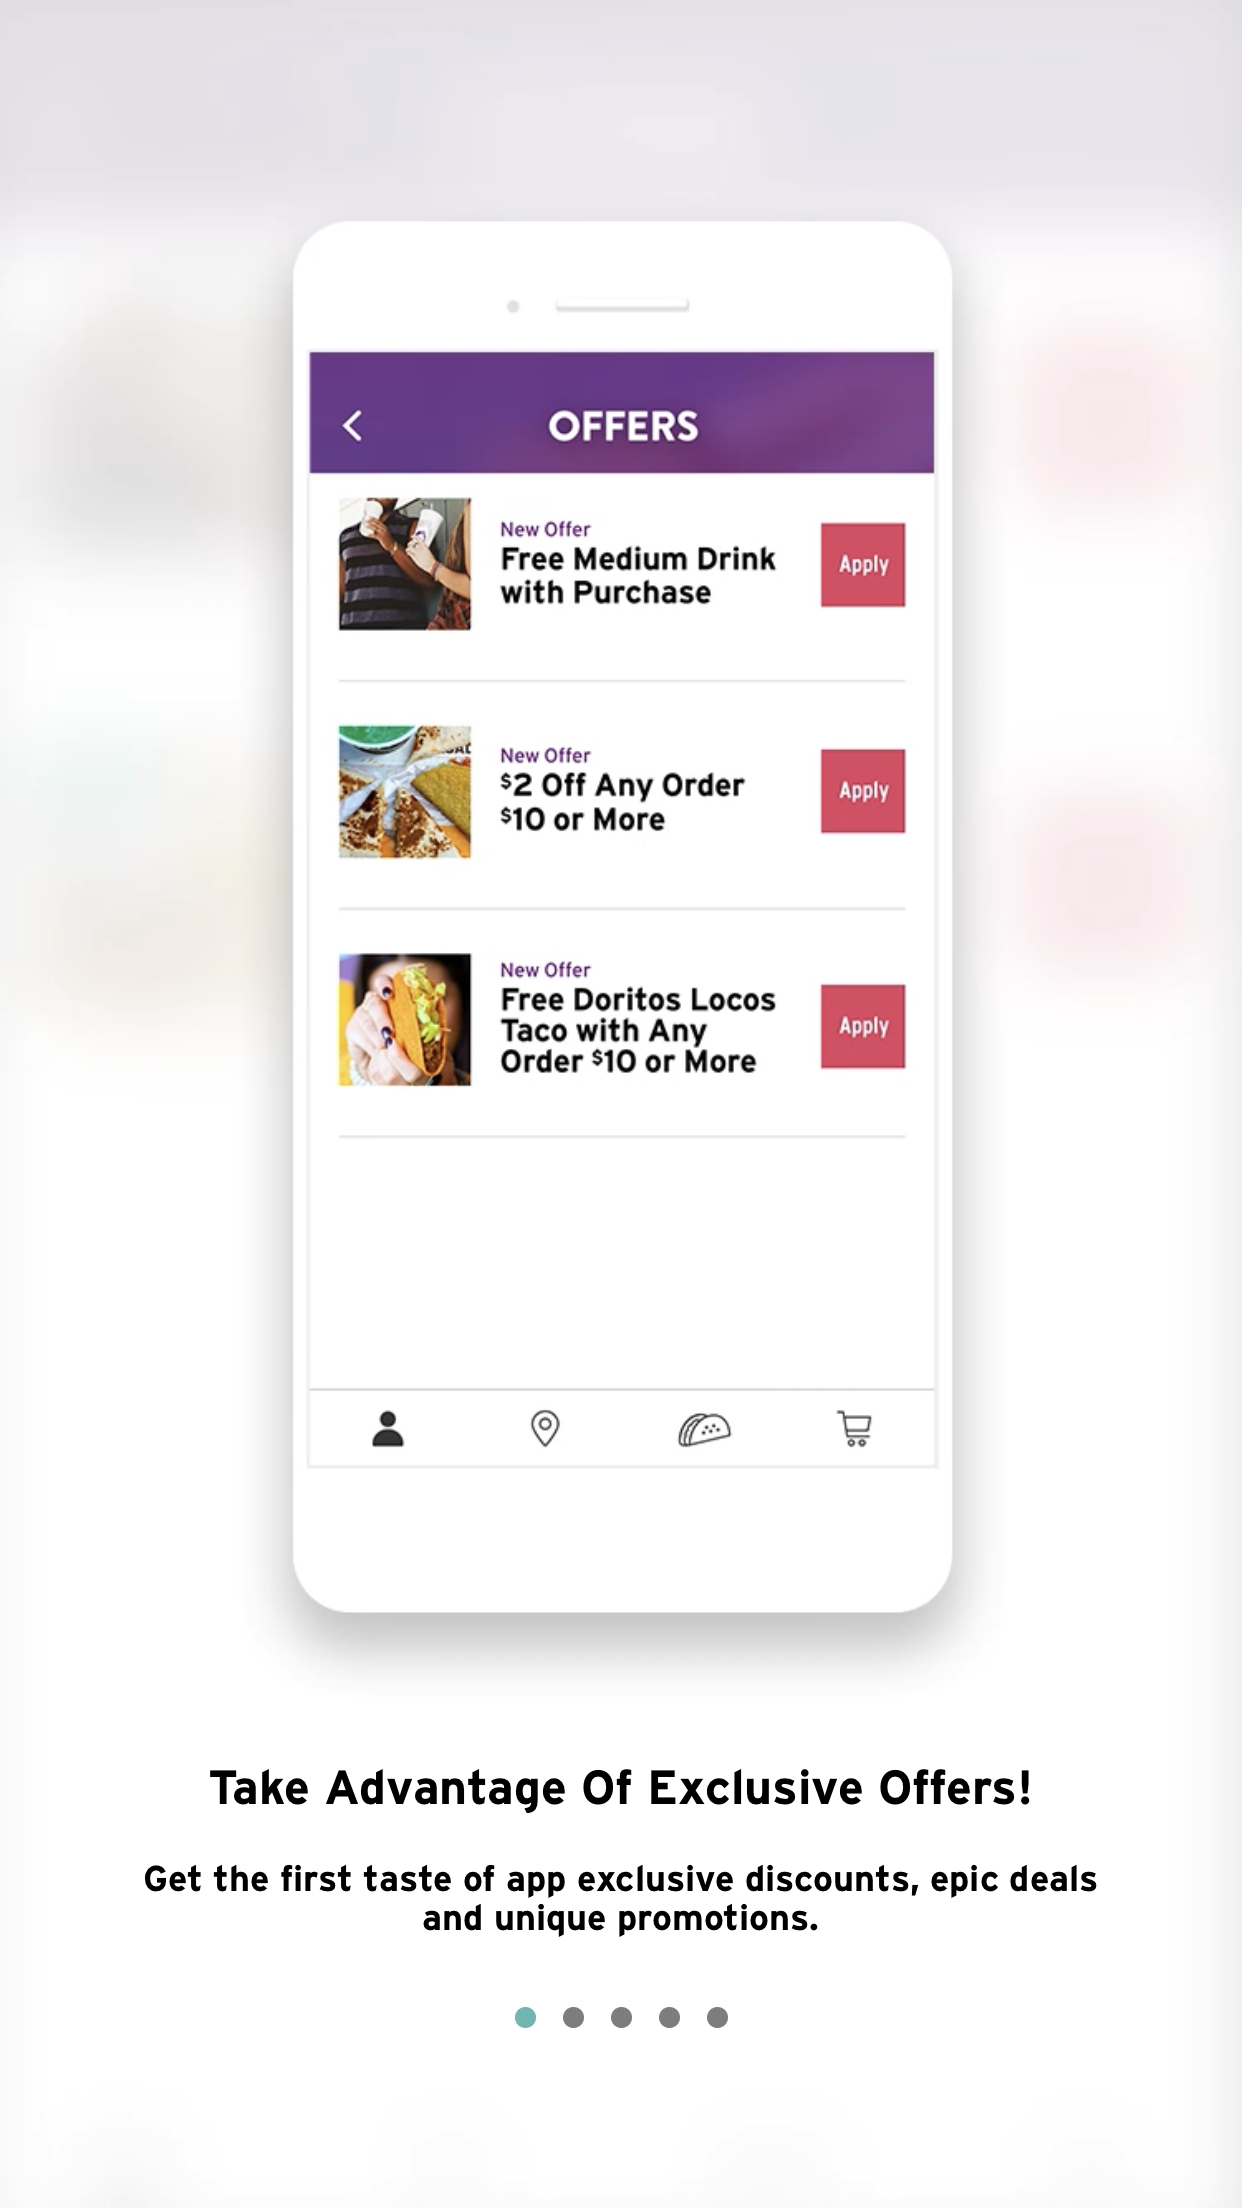Image: (291, 221, 954, 1614)
PageIndicator: (516, 2006, 729, 2029)
Text: (146, 1864, 1098, 1938), (209, 1768, 1031, 1815)
